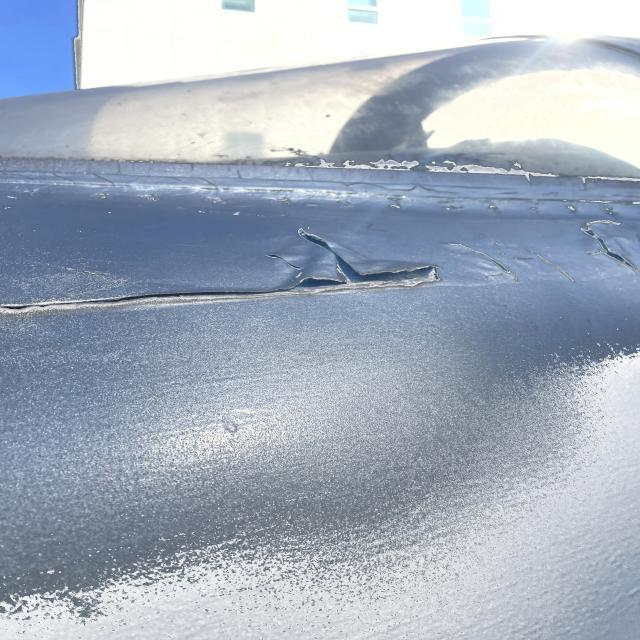crack: (454, 239, 577, 289), (265, 257, 315, 279), (72, 271, 124, 287)
